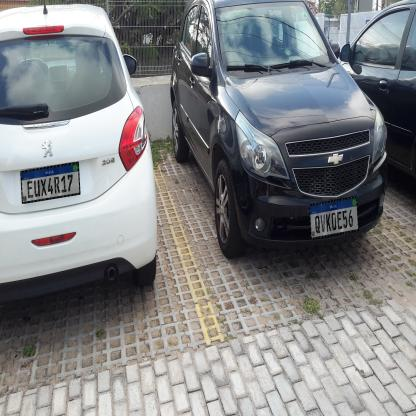PlacaM: (21, 162, 80, 204), (309, 196, 359, 240)
